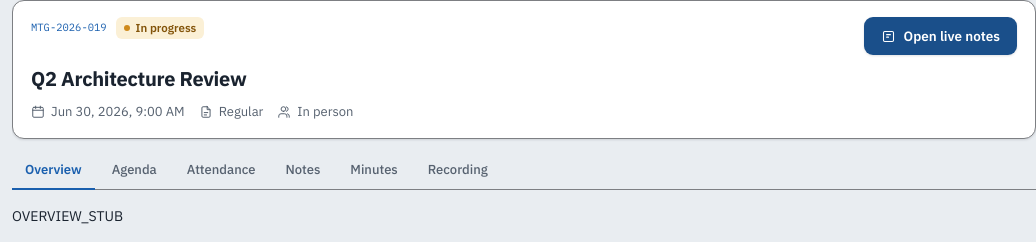
MeetingPage — meeting shell (P6a IA) › the InProgress primary action navigates to its destination
Click the button "Open live notes". click: (940, 36)
box: 864,17 -> 1017,55
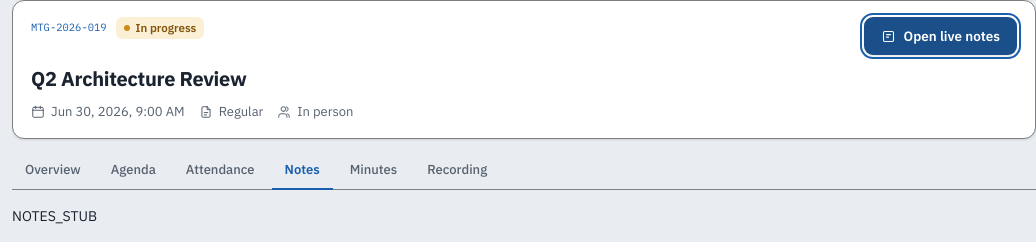
Result: the text "NOTES_STUB" is shown at 12,207 -> 97,225
